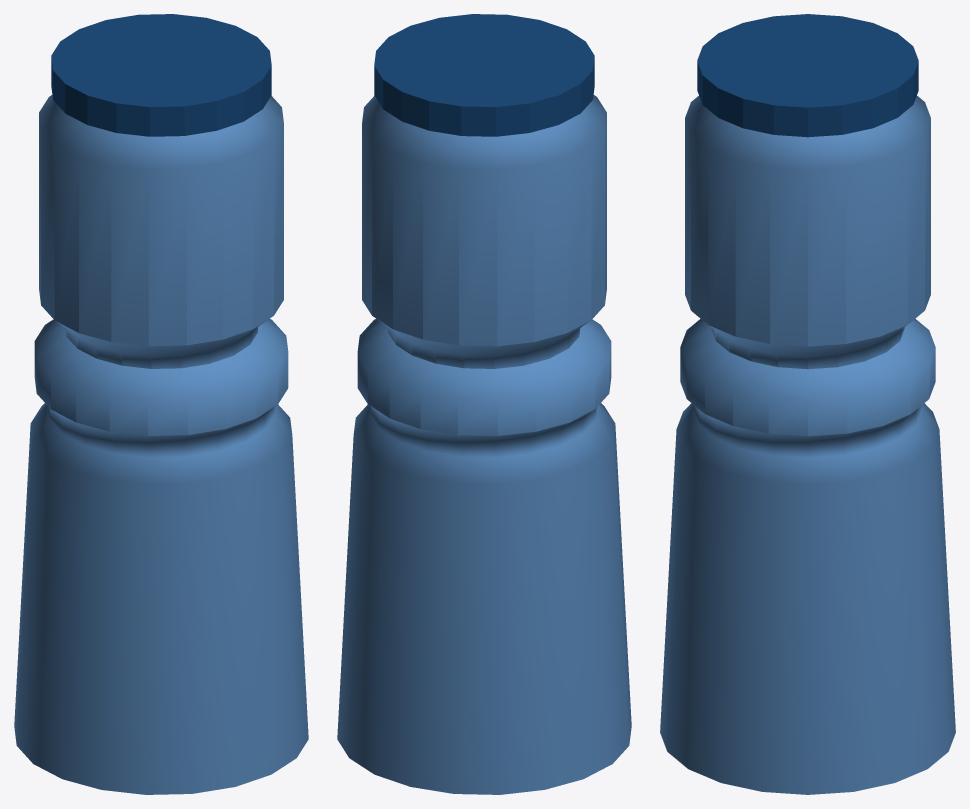
The model's file is PlasticFles1.fbx.
3 views of the same model, side by side, from view 1: azimuth 30°, elevation 25°; view 2: azimuth 150°, elevation 25°; view 3: azimuth 270°, elevation 25° (orthographic).
Visible parts, largest first — view 1: pCylinder1; view 2: pCylinder1; view 3: pCylinder1.
Part boxes in pixels (<box>): pCylinder1: <box>14,14,308,794</box>; pCylinder1: <box>337,14,631,794</box>; pCylinder1: <box>660,14,955,794</box>.
Bounding box in the file's own units: 8.07 × 20.21 × 8.07.
